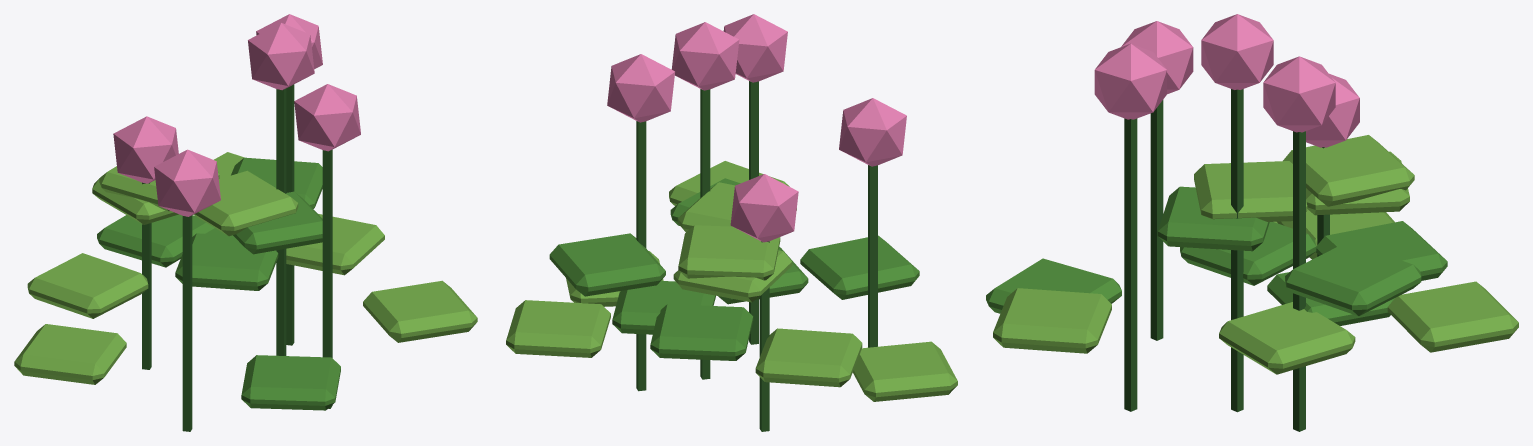
The model's file is buisson_prairie_3.glb.
3 views of the same model, side by side, from view 1: azimuth 30°, elevation 25°; view 2: azimuth 150°, elevation 25°; view 3: azimuth 270°, elevation 25° (orthographic). The views are drawn at different scales.
Parts seen in each view (by area): view 1: trefle_feuille_claire.002, trefle_feuille.002, trefle_rose.002, trefle_feuille_sombre.002; view 2: trefle_feuille_claire.002, trefle_feuille.002, trefle_rose.002, trefle_feuille_sombre.002; view 3: trefle_feuille_claire.002, trefle_feuille.002, trefle_rose.002, trefle_feuille_sombre.002.
Boxes of the visible parts, x1,y1,x2,y2 form: trefle_feuille_claire.002: (14,152,477,384); trefle_feuille.002: (97,157,340,410); trefle_rose.002: (113,14,360,216); trefle_feuille_sombre.002: (142,84,332,431); trefle_feuille_claire.002: (506,161,957,401); trefle_feuille.002: (549,178,919,360); trefle_rose.002: (607,14,906,242); trefle_feuille_sombre.002: (636,81,877,431); trefle_feuille_claire.002: (993,135,1518,374); trefle_feuille.002: (986,186,1447,325); trefle_rose.002: (1094,14,1359,147); trefle_feuille_sombre.002: (1124,89,1329,431).
Size of the model in its own units: 0.4583 by 0.4098 by 0.5003.
